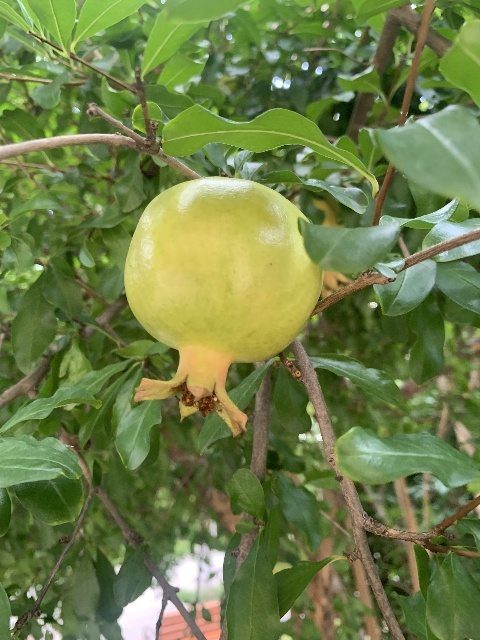mid-growth: (123, 176, 327, 441)
